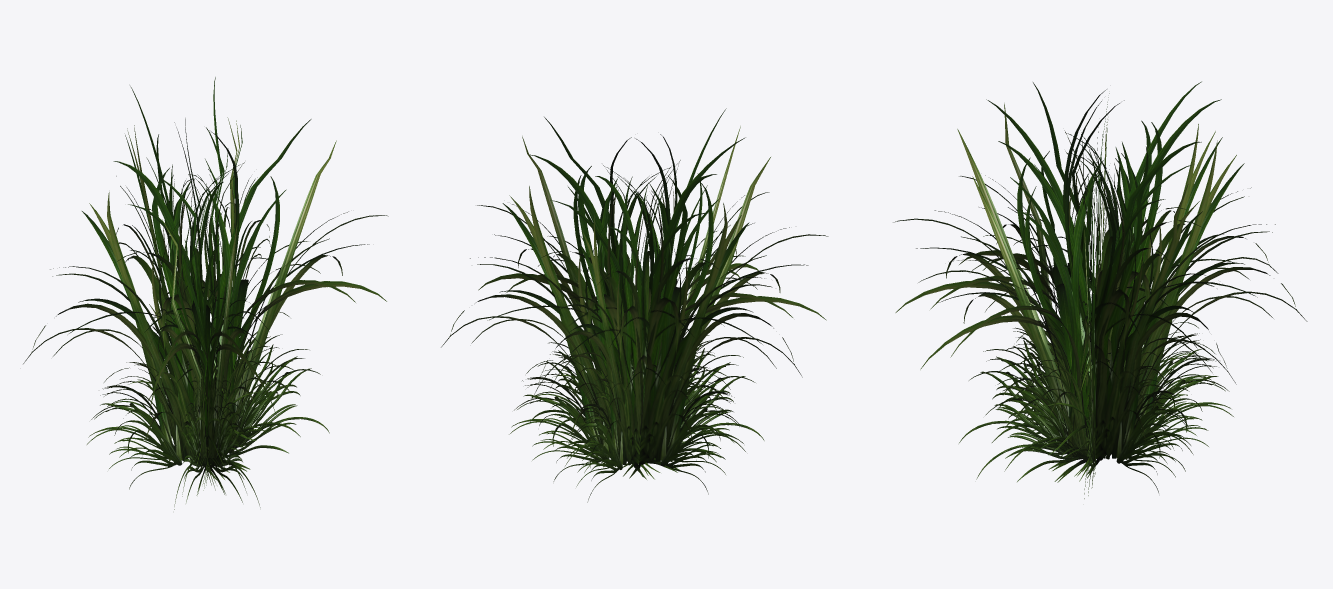
File: Tall_Grass.fbx
3 renders of one model, left to right at view 1: azimuth 30°, elevation 25°; view 2: azimuth 150°, elevation 25°; view 3: azimuth 270°, elevation 25°, orthographic. The views are drawn at different scales.
Parts seen in each view (by area): view 1: Grass-Tall; view 2: Grass-Tall; view 3: Grass-Tall.
Boxes of the visible parts, x1,y1,x2,y2 form: Grass-Tall: [23, 77, 388, 509]; Grass-Tall: [441, 108, 828, 502]; Grass-Tall: [893, 81, 1307, 498].
Bounding box in the file's own units: 124 × 124 × 124.
